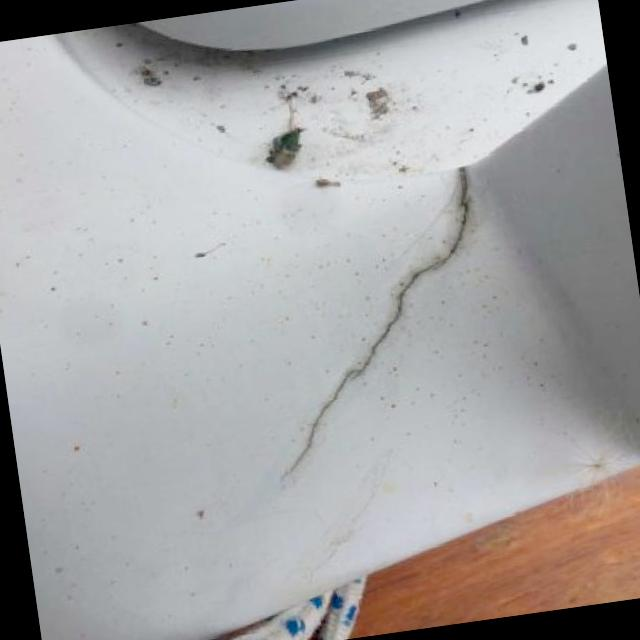crack: (275, 161, 474, 487)
